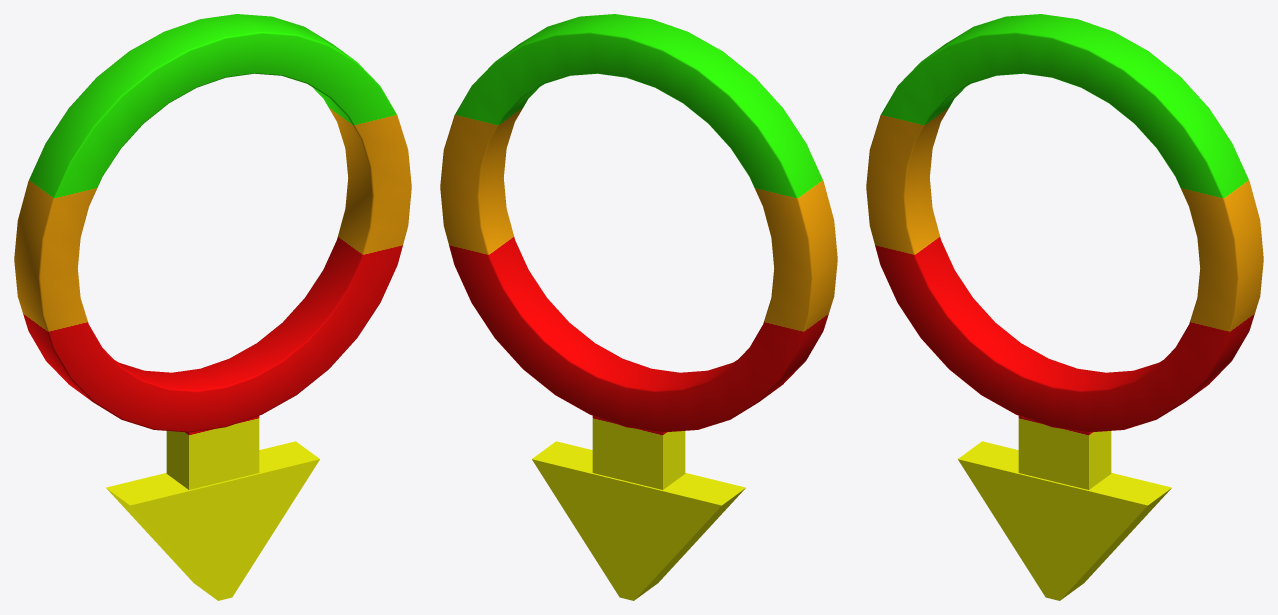
File: Bonus point.fbx
3 renders of one model, left to right at view 1: azimuth 30°, elevation 25°; view 2: azimuth 150°, elevation 25°; view 3: azimuth 330°, elevation 25°, orthographic.
Parts seen in each view (by area): view 1: Bonus point; view 2: Bonus point; view 3: Bonus point.
Part boxes in pixels (box(x1,y1,x2,y2)): Bonus point: box(14, 14, 411, 600); Bonus point: box(440, 14, 837, 600); Bonus point: box(866, 14, 1263, 600).
Bounding box in the file's own units: 200 × 288 × 23.92.
Materials: 1 (1 with a texture image).
